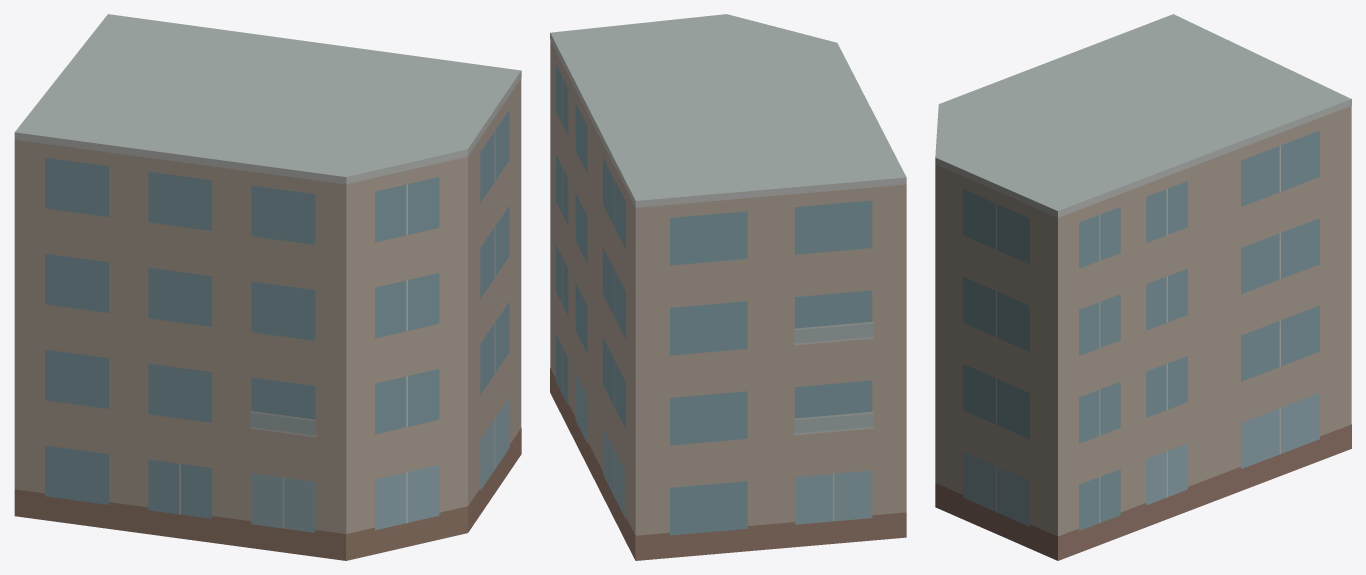
Rendered from survey-upis-32831969.glb.
3 renders of one model, left to right at view 1: azimuth 30°, elevation 25°; view 2: azimuth 150°, elevation 25°; view 3: azimuth 270°, elevation 25°, orthographic. The views are drawn at different scales.
Parts seen in each view (by area): view 1: survey-upis-32831969.tmp; view 2: survey-upis-32831969.tmp; view 3: survey-upis-32831969.tmp.
Part boxes in pixels (x1=…): survey-upis-32831969.tmp: x1=14, y1=14, x2=521, y2=560; survey-upis-32831969.tmp: x1=550, y1=14, x2=906, y2=560; survey-upis-32831969.tmp: x1=935, y1=14, x2=1351, y2=560.
Bounding box in the file's own units: 15.49 × 12.8 × 13.82.
